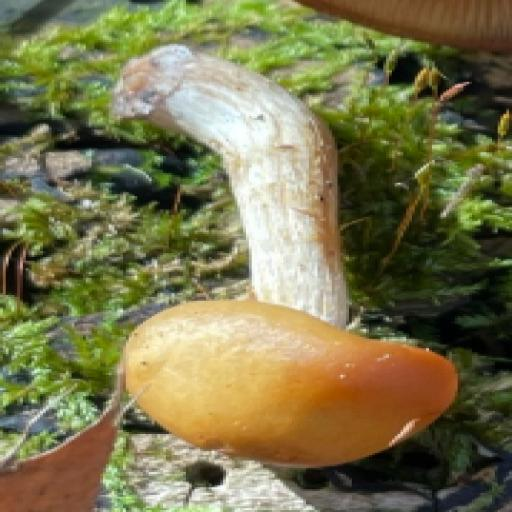mushroom: (86, 188, 482, 465)
